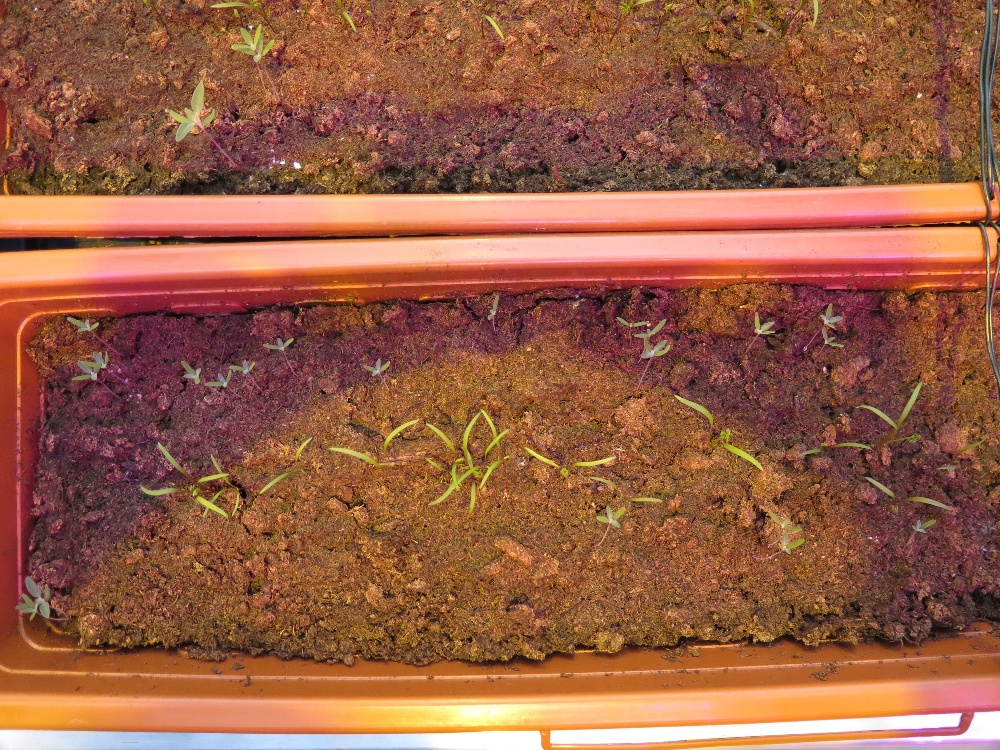crop: (421, 404, 516, 524), (666, 386, 773, 490), (309, 401, 425, 476), (855, 465, 971, 531), (507, 429, 621, 492), (182, 451, 264, 531), (134, 424, 193, 508), (859, 383, 934, 445), (268, 431, 314, 513), (784, 426, 868, 470)
weed: (175, 349, 259, 411), (7, 570, 82, 636), (616, 311, 689, 376), (166, 70, 218, 149), (225, 24, 271, 83), (743, 308, 791, 358), (71, 342, 116, 395), (809, 301, 848, 356), (252, 333, 305, 370), (352, 347, 398, 388), (766, 504, 796, 561), (591, 497, 632, 536), (62, 315, 107, 347), (905, 501, 932, 536)
